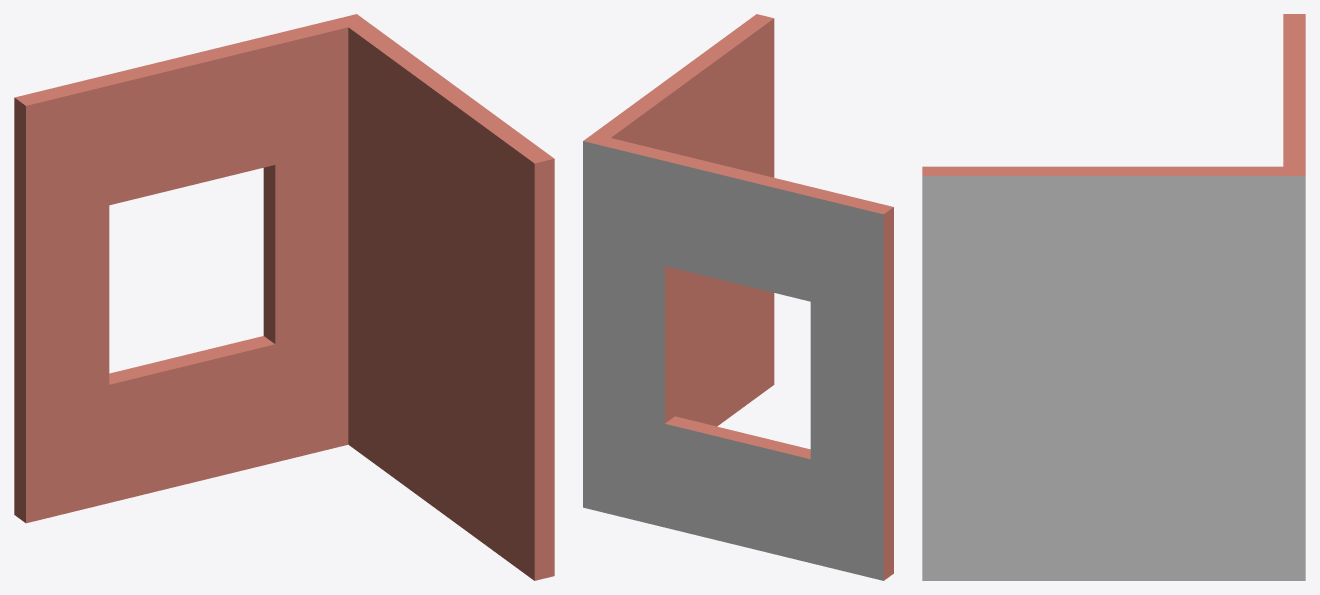
Rendered from Wall1_C6_10.fbx.
3 views of the same model, side by side, from view 1: azimuth 30°, elevation 25°; view 2: azimuth 150°, elevation 25°; view 3: azimuth 270°, elevation 25° (orthographic). The views are drawn at different scales.
Visible parts, largest first — view 1: Wall1_C6_10; view 2: Wall1_C6_10; view 3: Wall1_C6_10.
Boxes of the visible parts, <box> form: Wall1_C6_10: <box>14,14,554,580</box>; Wall1_C6_10: <box>583,14,893,580</box>; Wall1_C6_10: <box>922,14,1305,580</box>.
Size of the model in its own units: 258 by 300 by 258.
